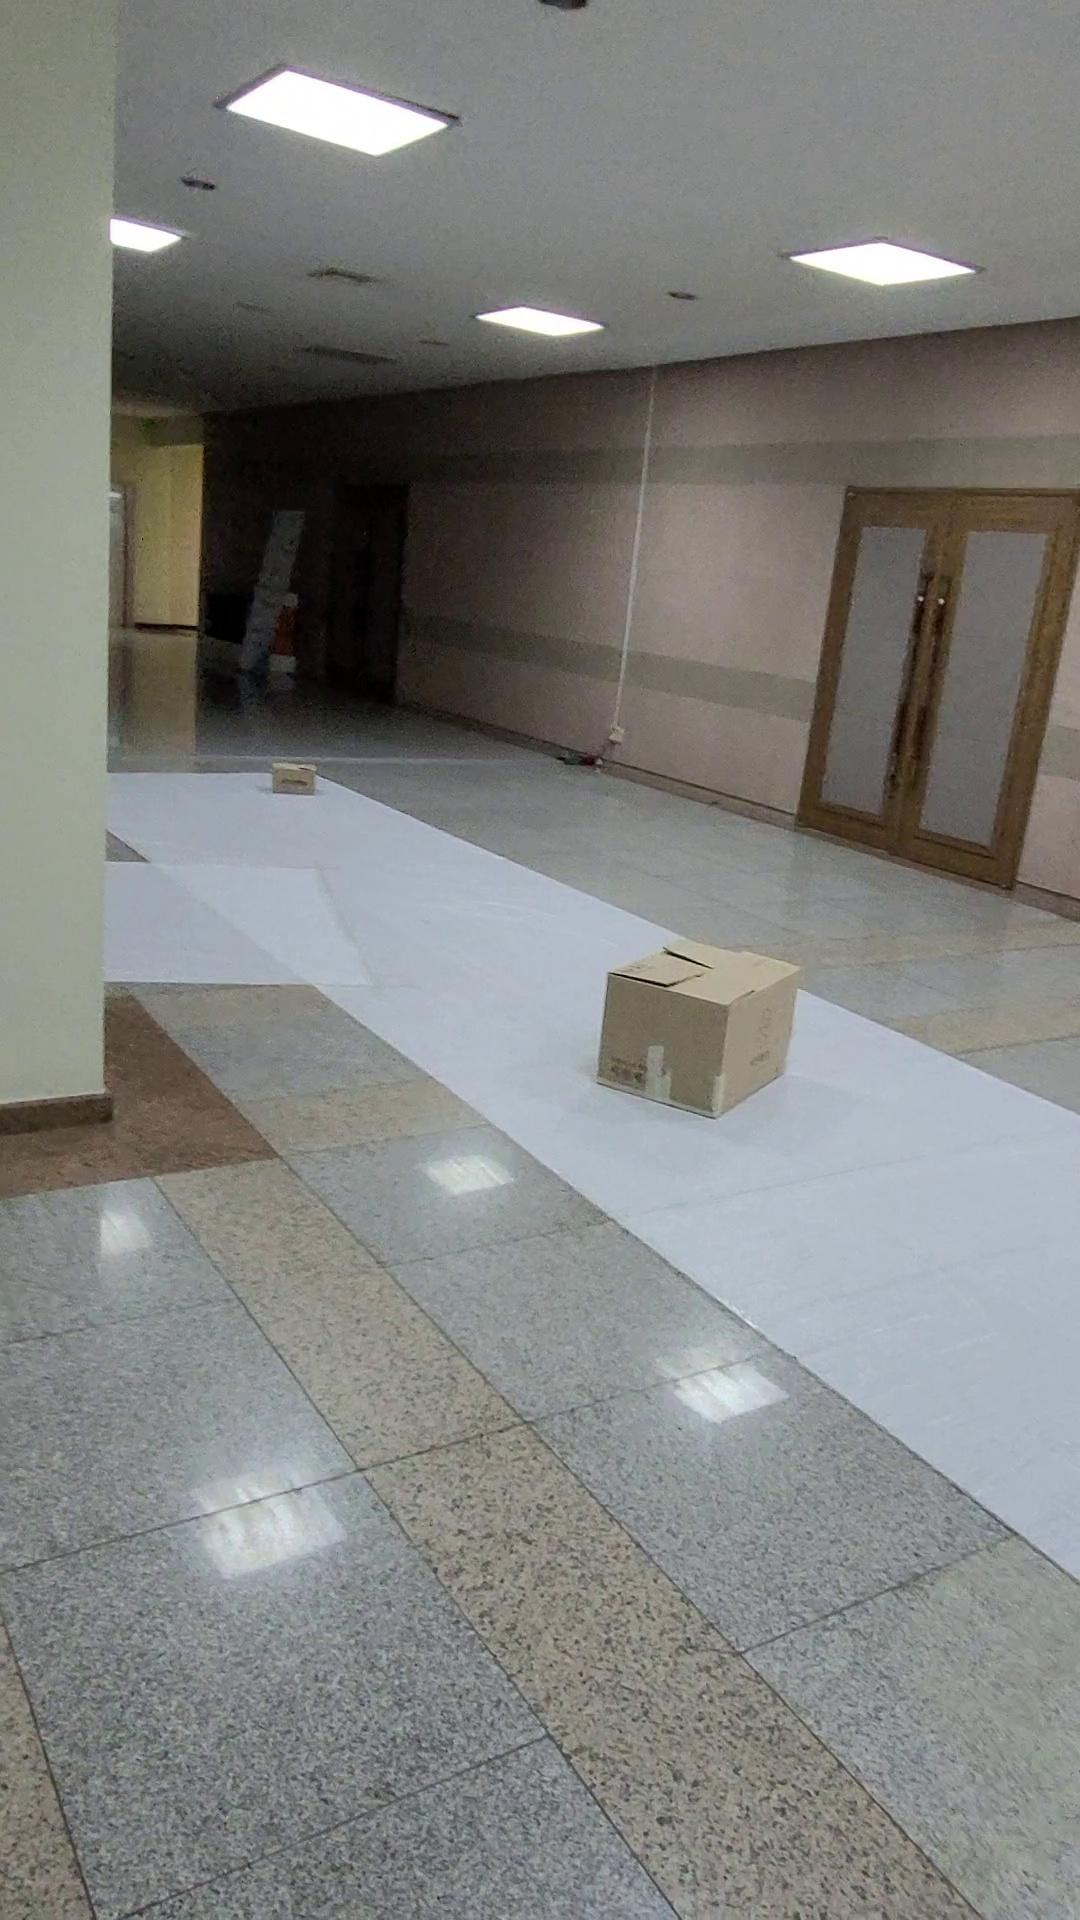Box: (553, 918, 824, 1150), (237, 728, 349, 825)
